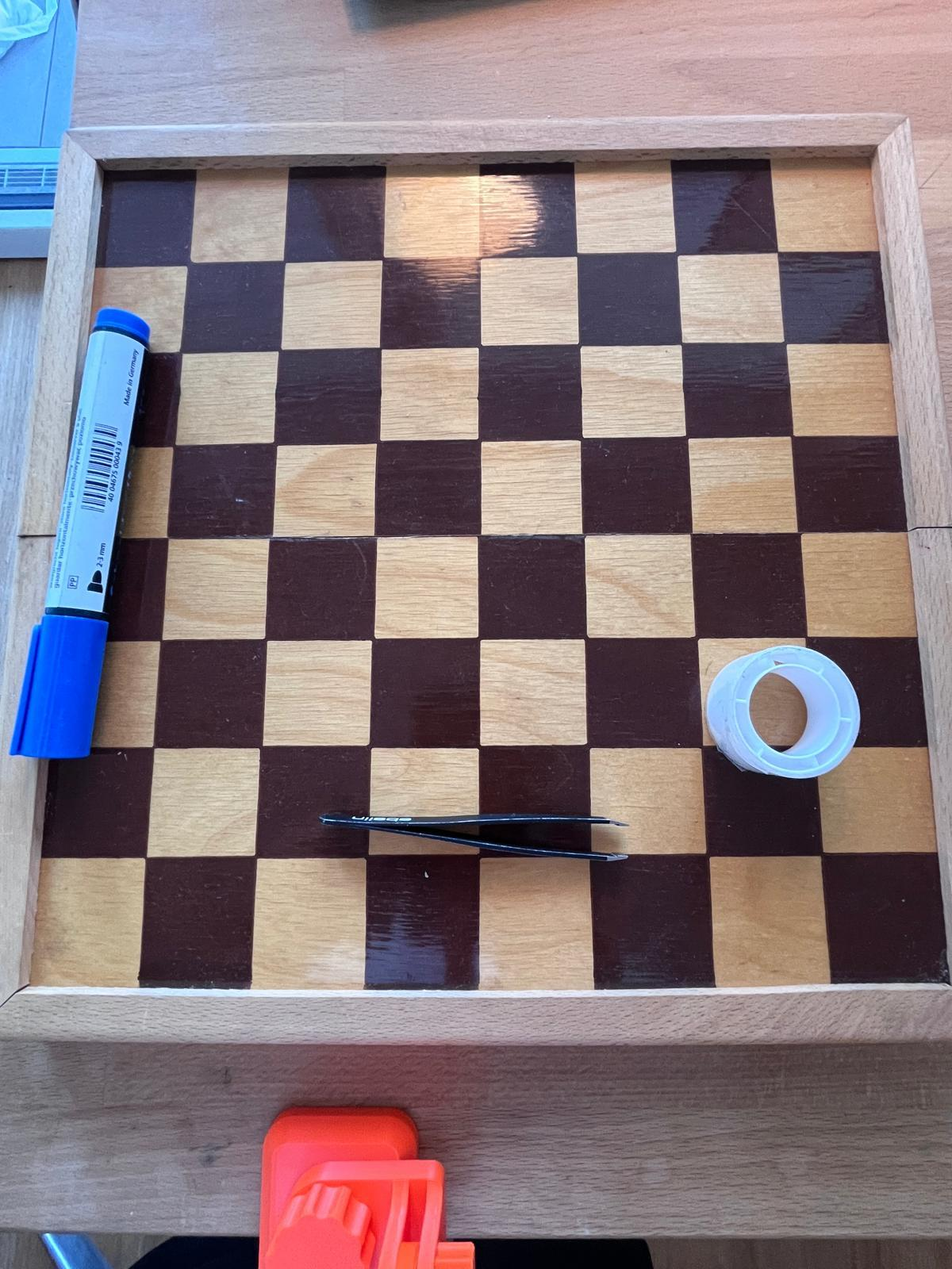marker: (10, 306, 152, 757)
tape: (706, 642, 863, 780)
tweezer: (324, 814, 628, 863)
